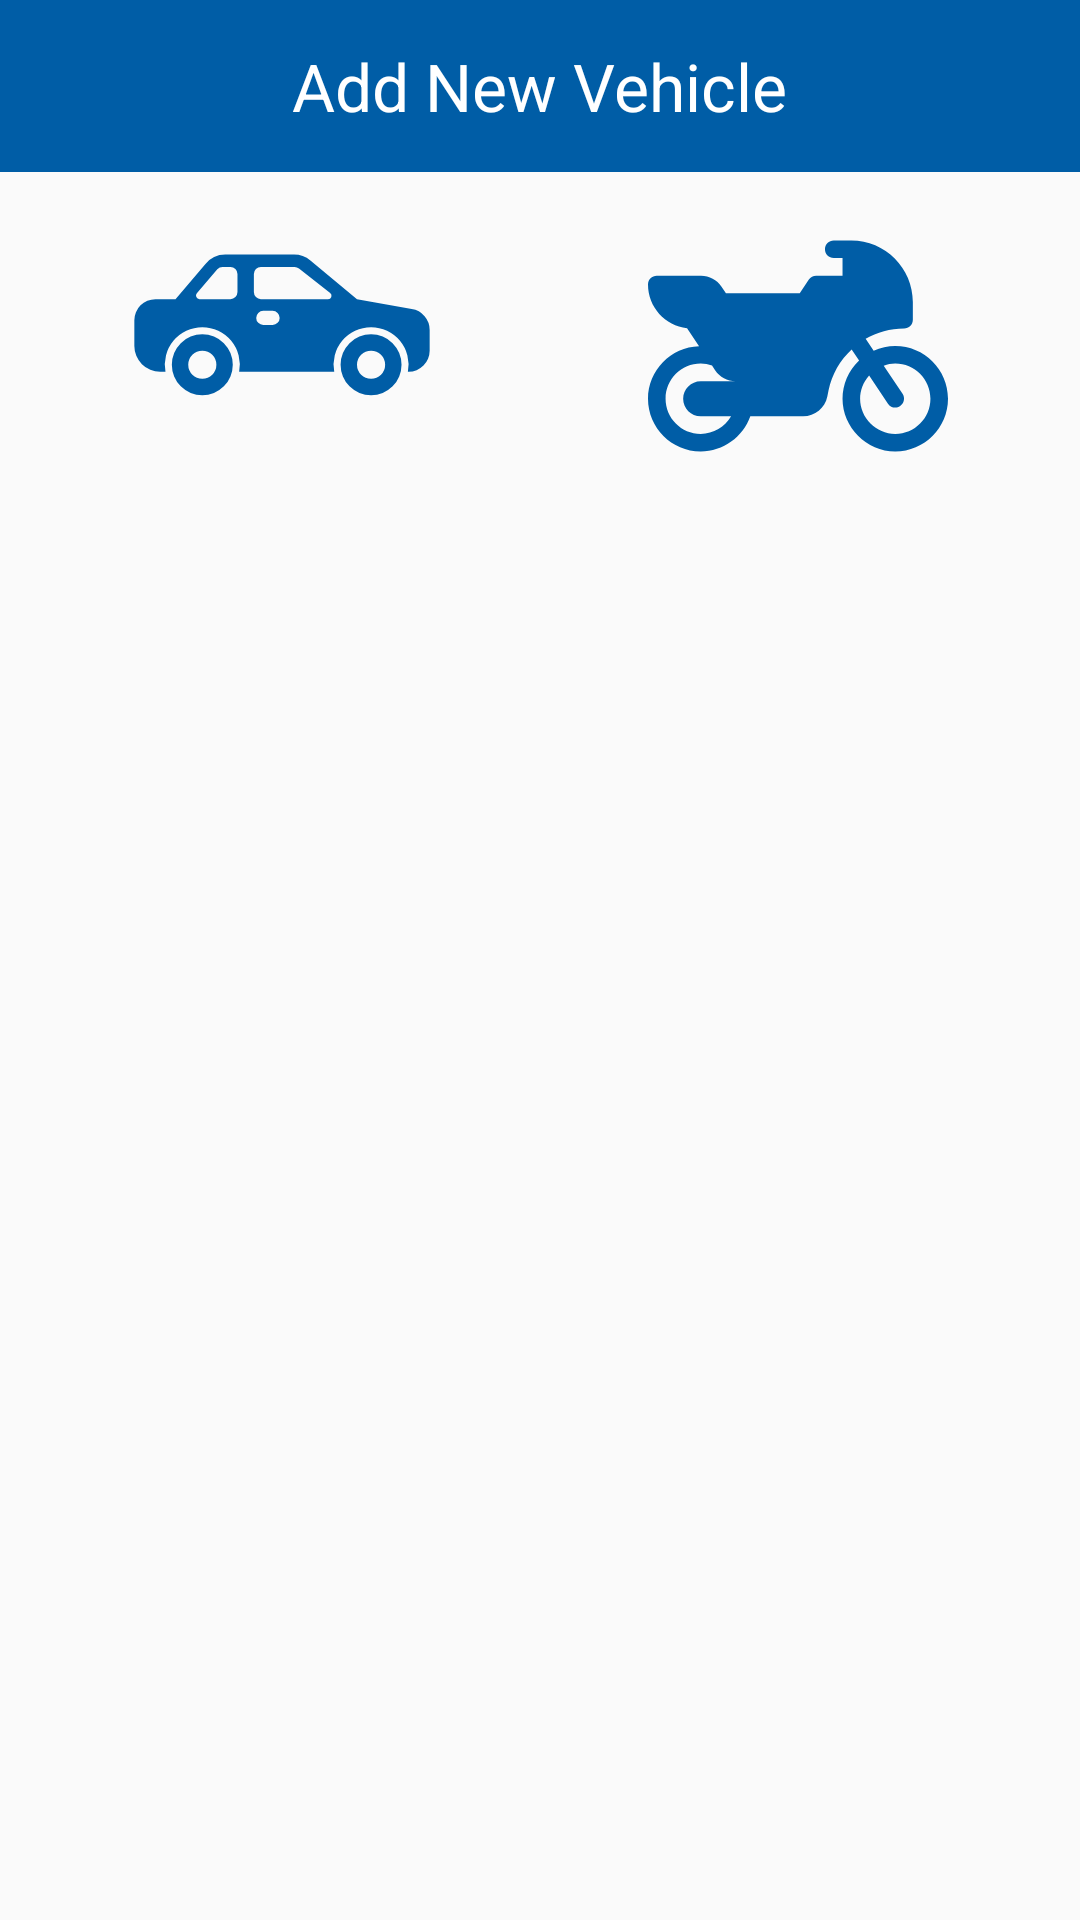

Icon click points for this 1080*1920 phone screenshot, format point (x, y):
bike: point (798, 346)
car: point (282, 325)
